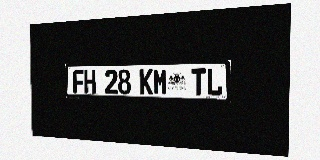2: (105, 69, 117, 94)
8: (118, 69, 130, 94)
F: (73, 70, 84, 93)
H: (84, 69, 96, 93)
K: (140, 69, 153, 95)
L: (207, 68, 222, 96)
M: (154, 68, 167, 95)
T: (191, 68, 206, 96)
